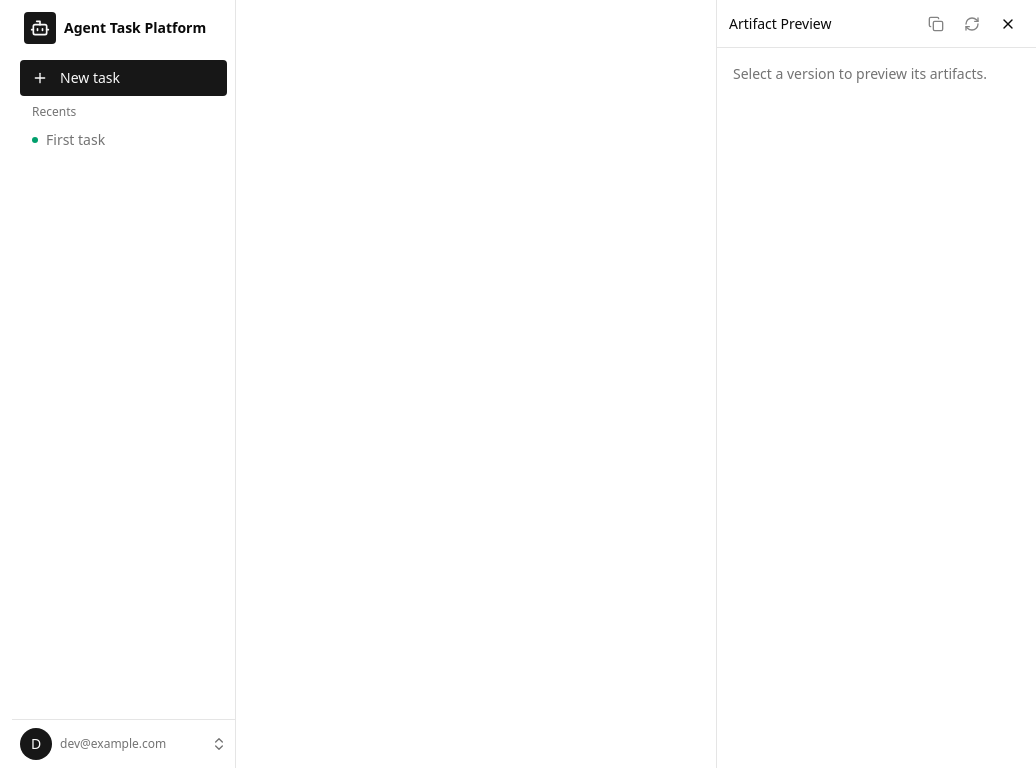
Scenario: SideNav (left navigation column) › menu entry navigates and closes the menu
Click the button with test id "user-area". click: (124,744)
box: [12, 719, 235, 767]
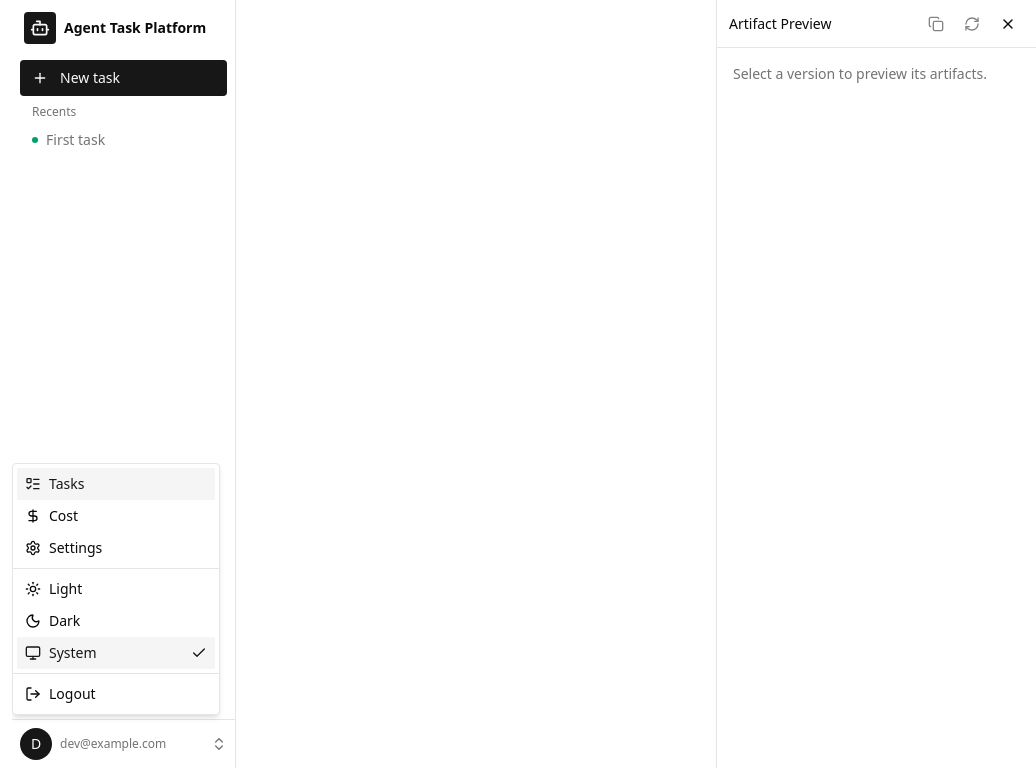
Click the menu item with test id "nav-cost". click: (52,516)
box: [25, 506, 78, 525]
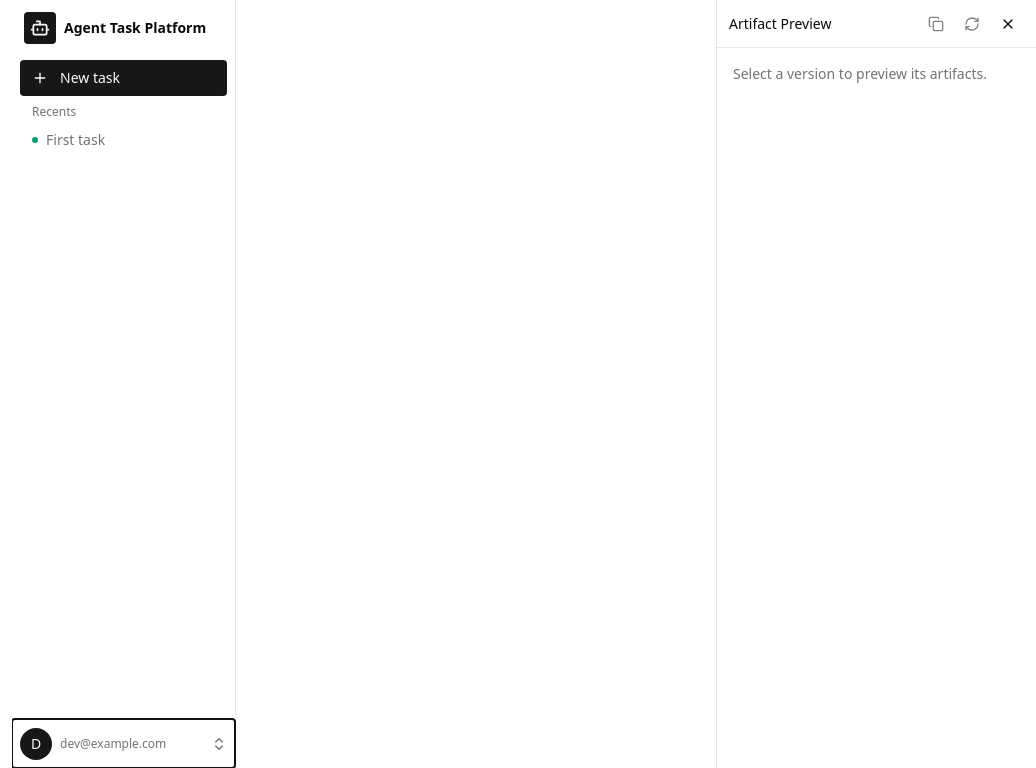
Result: the menu item with test id "nav-cost" is gone
